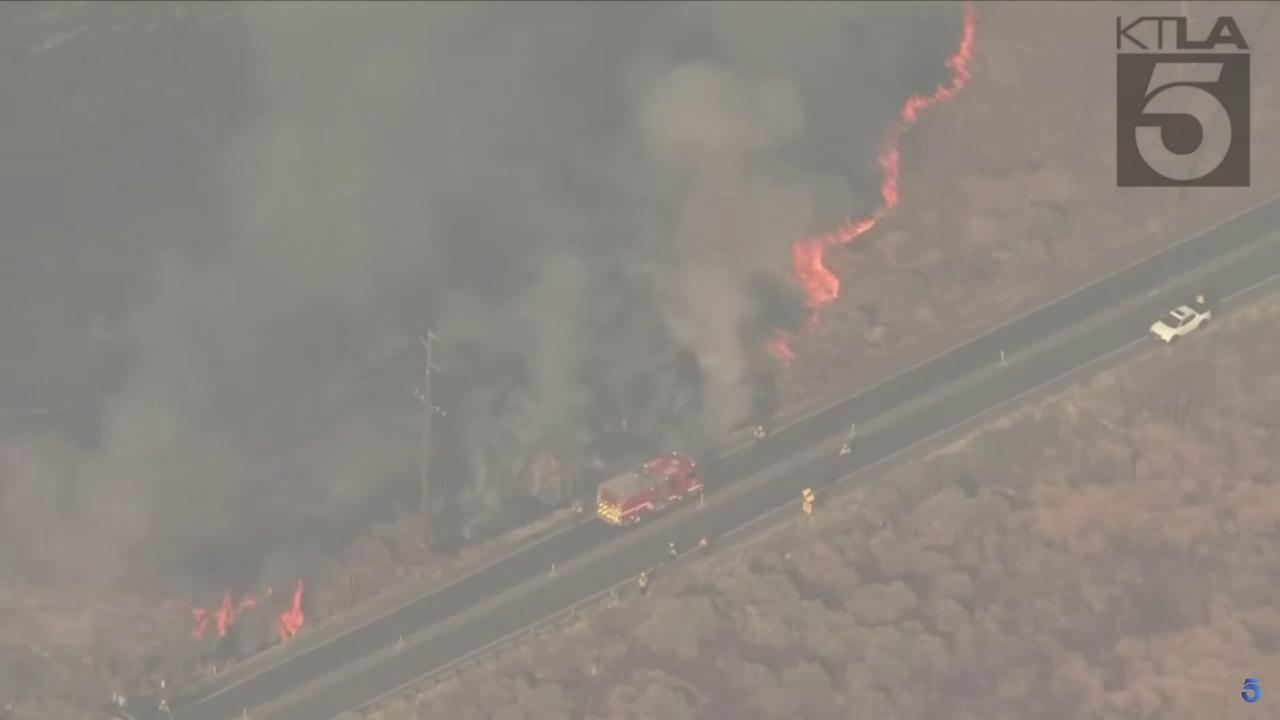fire: (877, 0, 977, 207), (766, 216, 878, 367), (191, 591, 258, 643), (279, 578, 305, 644)
smoke: (0, 0, 900, 665)
